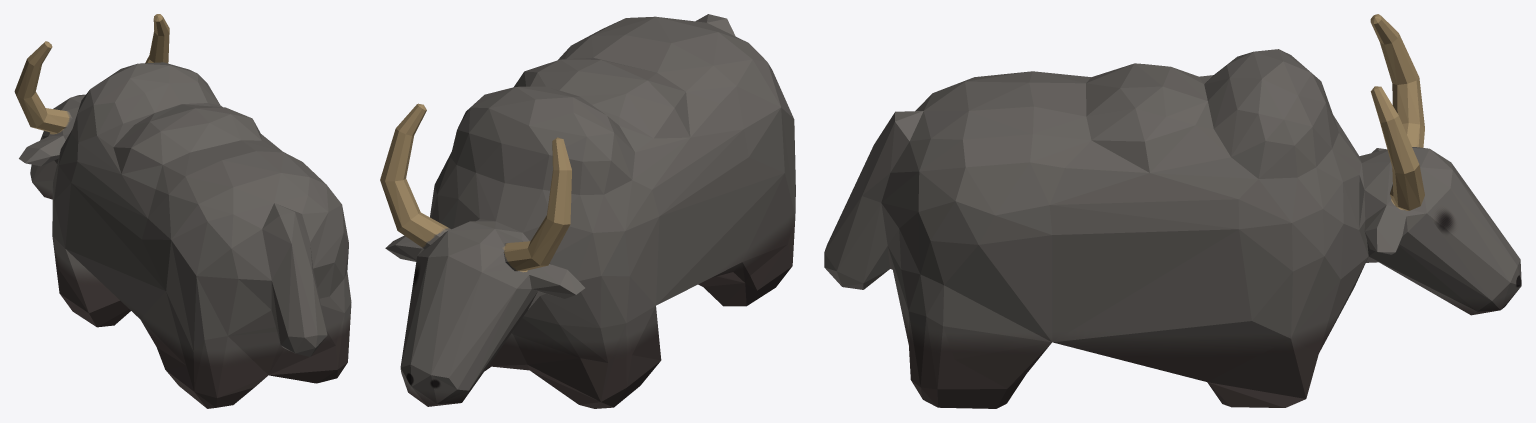
Rendered from animal_yak_male_blob.obj.
3 renders of one model, left to right at view 1: azimuth 30°, elevation 25°; view 2: azimuth 150°, elevation 25°; view 3: azimuth 270°, elevation 25°, orthographic. The views are drawn at different scales.
Visible parts, largest first — view 1: animal_yak_male_blob; view 2: animal_yak_male_blob; view 3: animal_yak_male_blob.
Boxes of the visible parts, x1,y1,x2,y2 form: animal_yak_male_blob: [14, 14, 351, 408]; animal_yak_male_blob: [380, 14, 795, 408]; animal_yak_male_blob: [824, 14, 1521, 408].
Bounding box in the file's own units: 0.8057 × 1.07 × 2.11.
